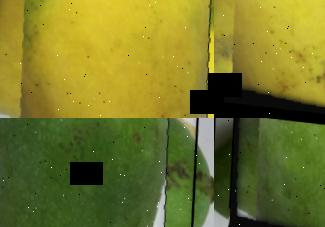Ripe: (0, 0, 214, 118), (214, 0, 325, 118)
Unripe: (0, 118, 204, 227), (223, 118, 325, 227)
